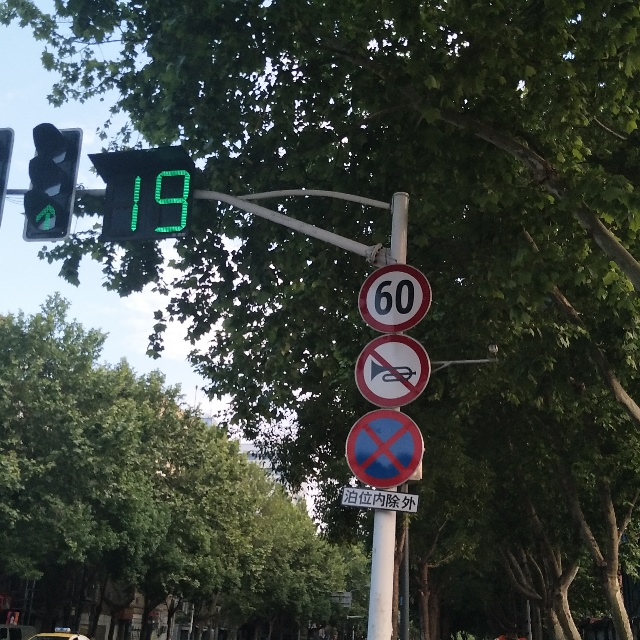nohonk: (360, 341, 424, 405)
stop: (353, 415, 420, 487)
